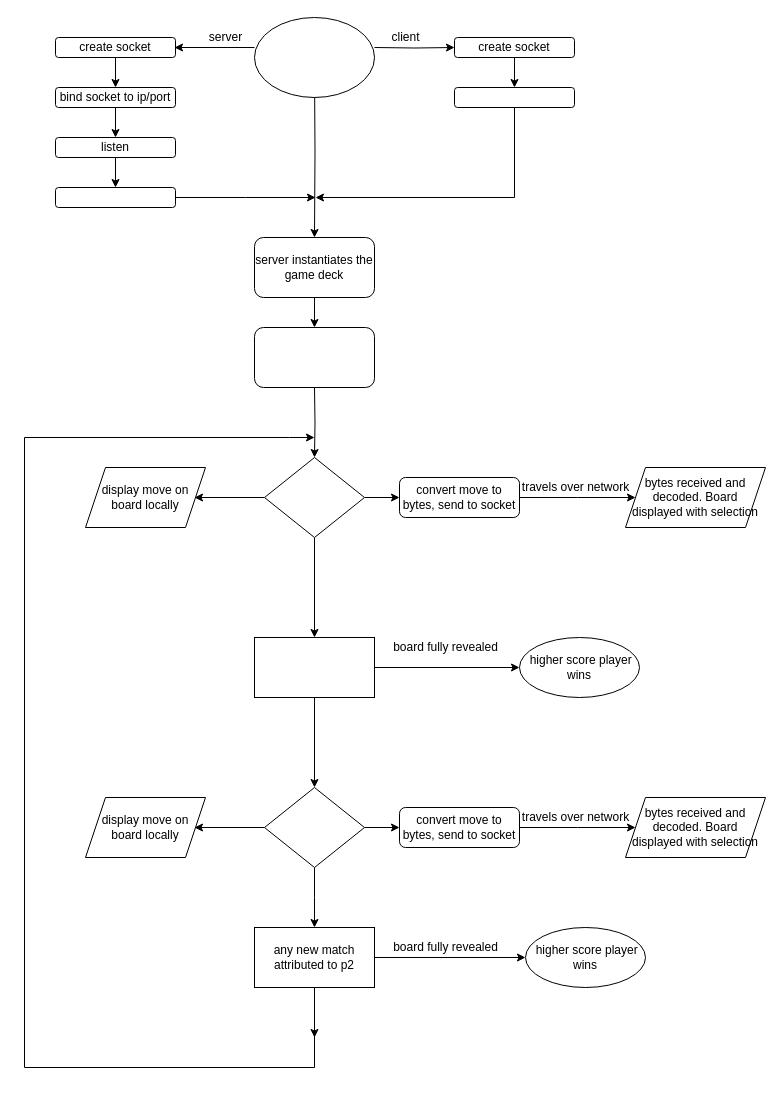
Some shapes in this 783 by 1093 pixel diagram are drawn without their labels. The shapes that lost their labels are listed below. From the top down, each one's centre as x and y in pixels, then its label:
At point (314, 57): "start app as server (p1) or client (p2)".
At point (514, 97): "connect to ip/port".
At point (115, 197): "accept".
At point (314, 357): "server sends game deck to client as JSON".
At point (314, 497): "p1 turns (x2)".
At point (314, 667): "any new match attributed to p1".
At point (314, 827): "p2 turns (x2)".
